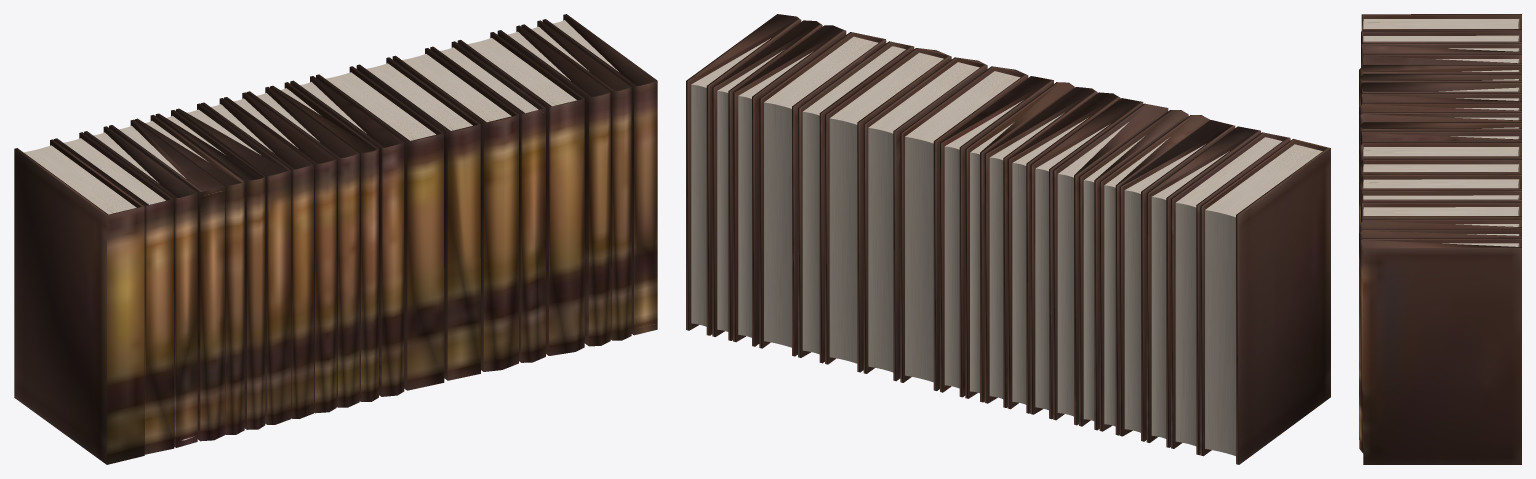
Rendered from cc0_books_set.glb.
3 views of the same model, side by side, from view 1: azimuth 30°, elevation 25°; view 2: azimuth 150°, elevation 25°; view 3: azimuth 270°, elevation 25° (orthographic). The views are drawn at different scales.
Parts seen in each view (by area): view 1: book_encyclopedia_set_01_book01, book_encyclopedia_set_01_book13, book_encyclopedia_set_01_book17, book_encyclopedia_set_01_book15, book_encyclopedia_set_01_book14, book_encyclopedia_set_01_book02, book_encyclopedia_set_01_book04, book_encyclopedia_set_01_book16, book_encyclopedia_set_01_book18, book_encyclopedia_set_01_book07, book_encyclopedia_set_01_book20, book_encyclopedia_set_01_book12 (+8 smaller); view 2: book_encyclopedia_set_01_book01, book_encyclopedia_set_01_book13, book_encyclopedia_set_01_book15, book_encyclopedia_set_01_book17, book_encyclopedia_set_01_book14, book_encyclopedia_set_01_book02, book_encyclopedia_set_01_book04, book_encyclopedia_set_01_book16, book_encyclopedia_set_01_book20, book_encyclopedia_set_01_book18, book_encyclopedia_set_01_book07, book_encyclopedia_set_01_book12 (+8 smaller); view 3: book_encyclopedia_set_01_book20, book_encyclopedia_set_01_book13, book_encyclopedia_set_01_book17, book_encyclopedia_set_01_book15, book_encyclopedia_set_01_book01, book_encyclopedia_set_01_book14, book_encyclopedia_set_01_book19, book_encyclopedia_set_01_book02, book_encyclopedia_set_01_book16, book_encyclopedia_set_01_book03, book_encyclopedia_set_01_book07, book_encyclopedia_set_01_book18 (+8 smaller).
Part boxes in pixels (x1,y1,x2,y2): book_encyclopedia_set_01_book01: (14, 139, 144, 464); book_encyclopedia_set_01_book13: (316, 66, 444, 390); book_encyclopedia_set_01_book17: (457, 32, 584, 355); book_encyclopedia_set_01_book15: (392, 48, 518, 371); book_encyclopedia_set_01_book14: (356, 57, 480, 380); book_encyclopedia_set_01_book02: (54, 132, 174, 454); book_encyclopedia_set_01_book04: (109, 119, 224, 441); book_encyclopedia_set_01_book16: (430, 41, 545, 362); book_encyclopedia_set_01_book18: (497, 25, 610, 346); book_encyclopedia_set_01_book07: (176, 103, 291, 424); book_encyclopedia_set_01_book20: (542, 14, 657, 335); book_encyclopedia_set_01_book12: (290, 76, 404, 396); book_encyclopedia_set_01_book01: (1200, 139, 1330, 464); book_encyclopedia_set_01_book13: (900, 66, 1028, 390); book_encyclopedia_set_01_book15: (825, 48, 951, 372); book_encyclopedia_set_01_book17: (759, 32, 886, 356); book_encyclopedia_set_01_book14: (863, 57, 987, 381); book_encyclopedia_set_01_book02: (1171, 132, 1290, 455); book_encyclopedia_set_01_book04: (1119, 120, 1235, 441); book_encyclopedia_set_01_book16: (798, 41, 914, 363); book_encyclopedia_set_01_book20: (686, 14, 801, 335); book_encyclopedia_set_01_book18: (733, 25, 846, 346); book_encyclopedia_set_01_book07: (1053, 103, 1168, 425); book_encyclopedia_set_01_book12: (940, 76, 1053, 397); book_encyclopedia_set_01_book20: (1359, 238, 1521, 464); book_encyclopedia_set_01_book13: (1359, 142, 1521, 163); book_encyclopedia_set_01_book17: (1361, 202, 1521, 222); book_encyclopedia_set_01_book15: (1359, 174, 1521, 232); book_encyclopedia_set_01_book01: (1361, 14, 1521, 31); book_encyclopedia_set_01_book14: (1359, 159, 1521, 180); book_encyclopedia_set_01_book19: (1359, 229, 1521, 453); book_encyclopedia_set_01_book02: (1361, 31, 1521, 43); book_encyclopedia_set_01_book16: (1361, 190, 1521, 202); book_encyclopedia_set_01_book03: (1361, 43, 1521, 67); book_encyclopedia_set_01_book07: (1361, 82, 1521, 93); book_encyclopedia_set_01_book18: (1359, 219, 1521, 439).
Bounding box in the file's own units: 0.5513 × 0.2374 × 0.1619.
Materials: 2 (2 with a texture image).
